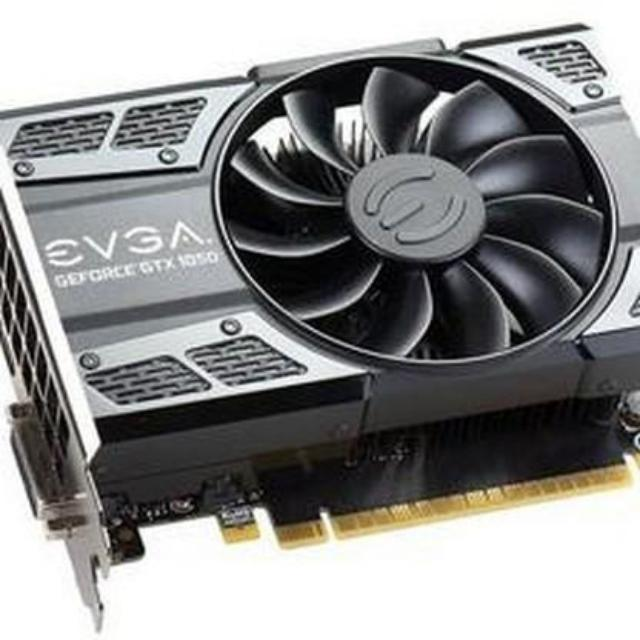GPU: (0, 13, 640, 573)
